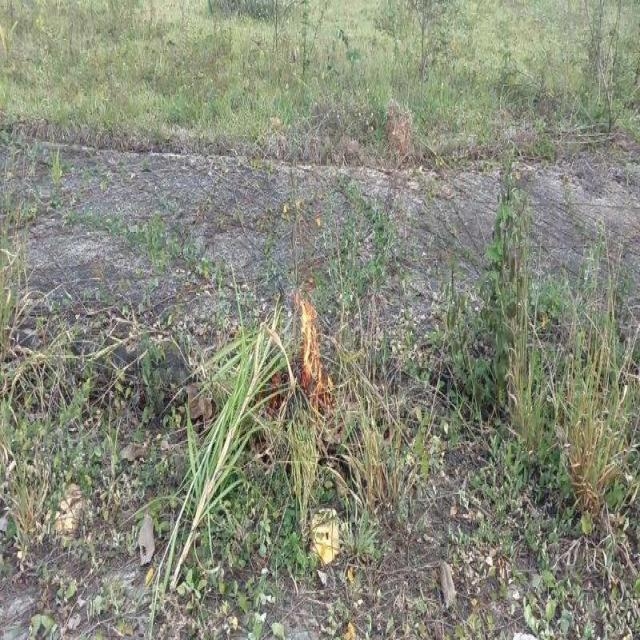fire: (298, 286, 322, 378)
